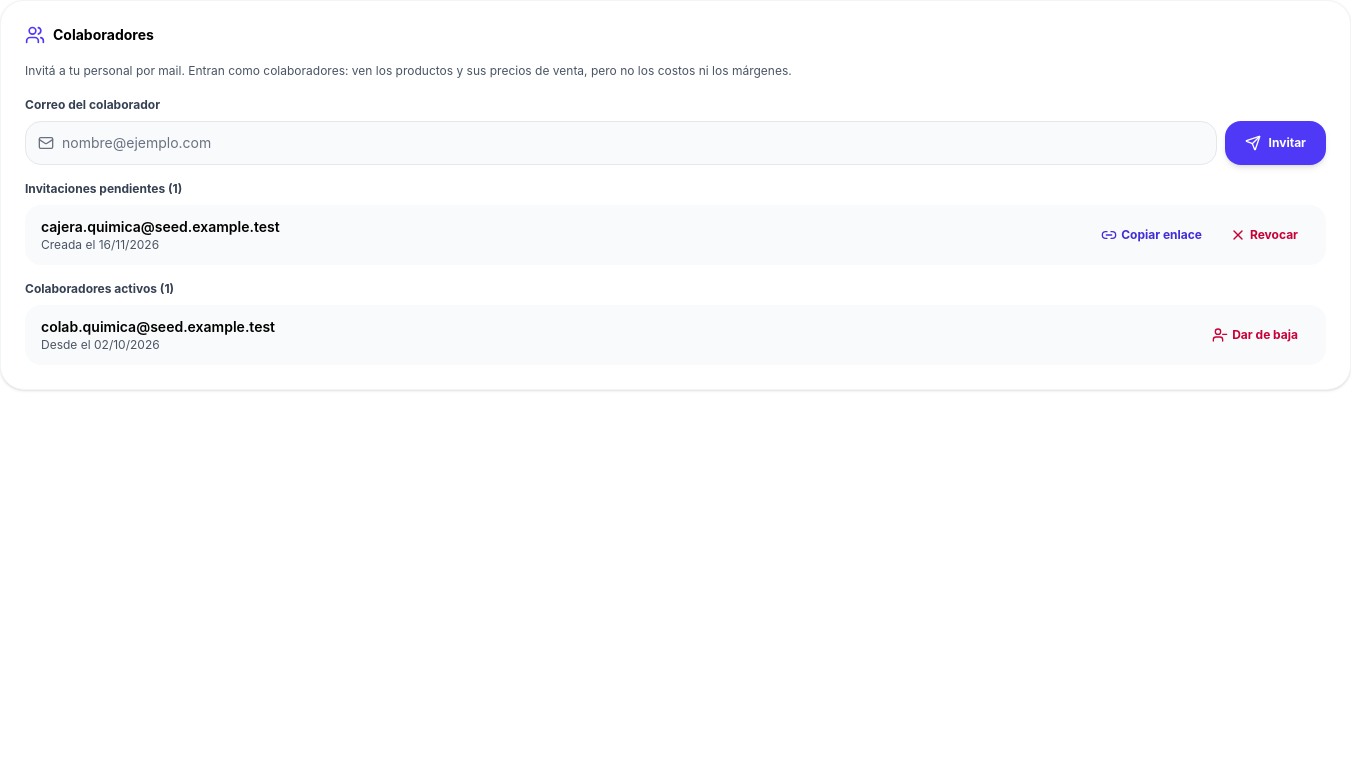
Test case: CollaboratorsSection (Perfil, solo ADMIN) › si la baja falla, el error se ve en el diálogo
Check: the text "colab.quimica@seed.example.test" is shown, box [41,318,275,334]
Click the button with aria-label "Dar de baja a colab.quimica@seed.example.test" at (1255, 334), box [1200,312,1310,356]
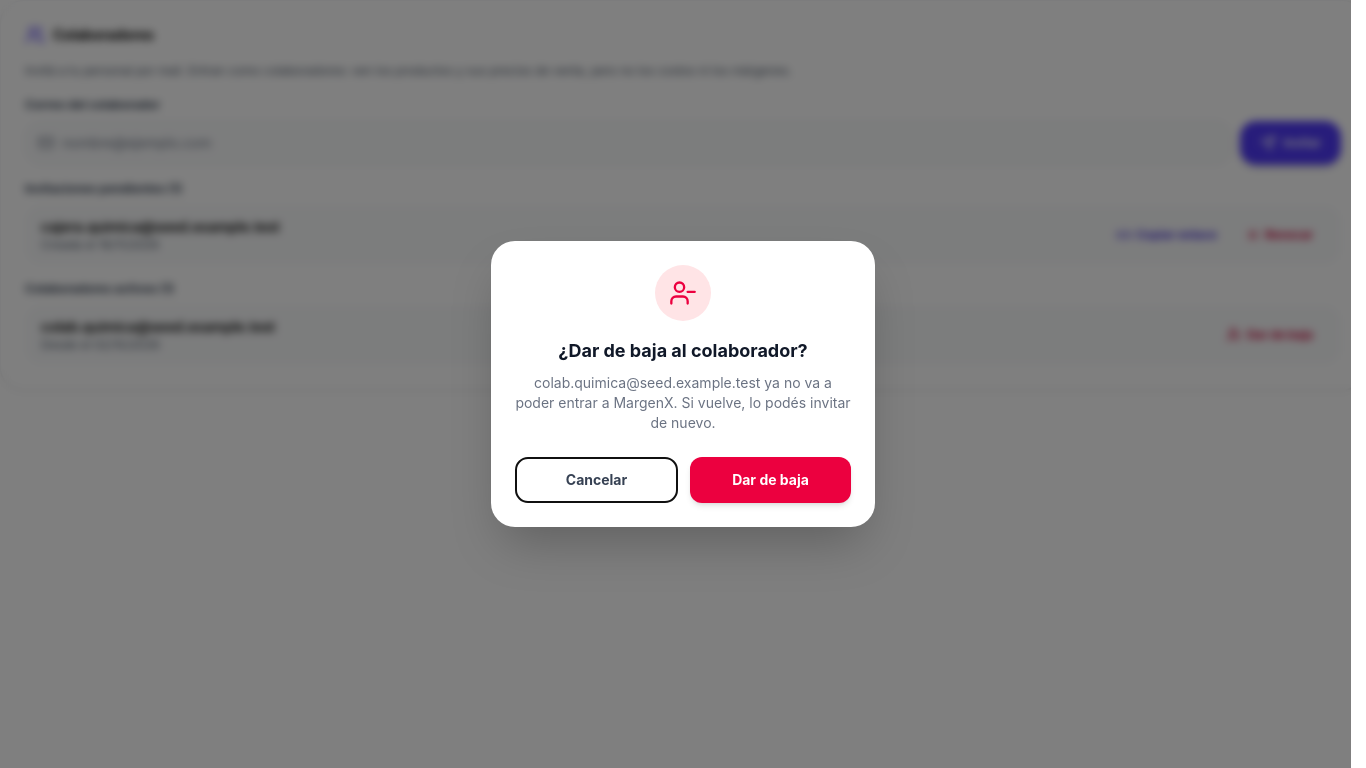
Click the button "Dar de baja" at (770, 480), box [690,457,851,503]
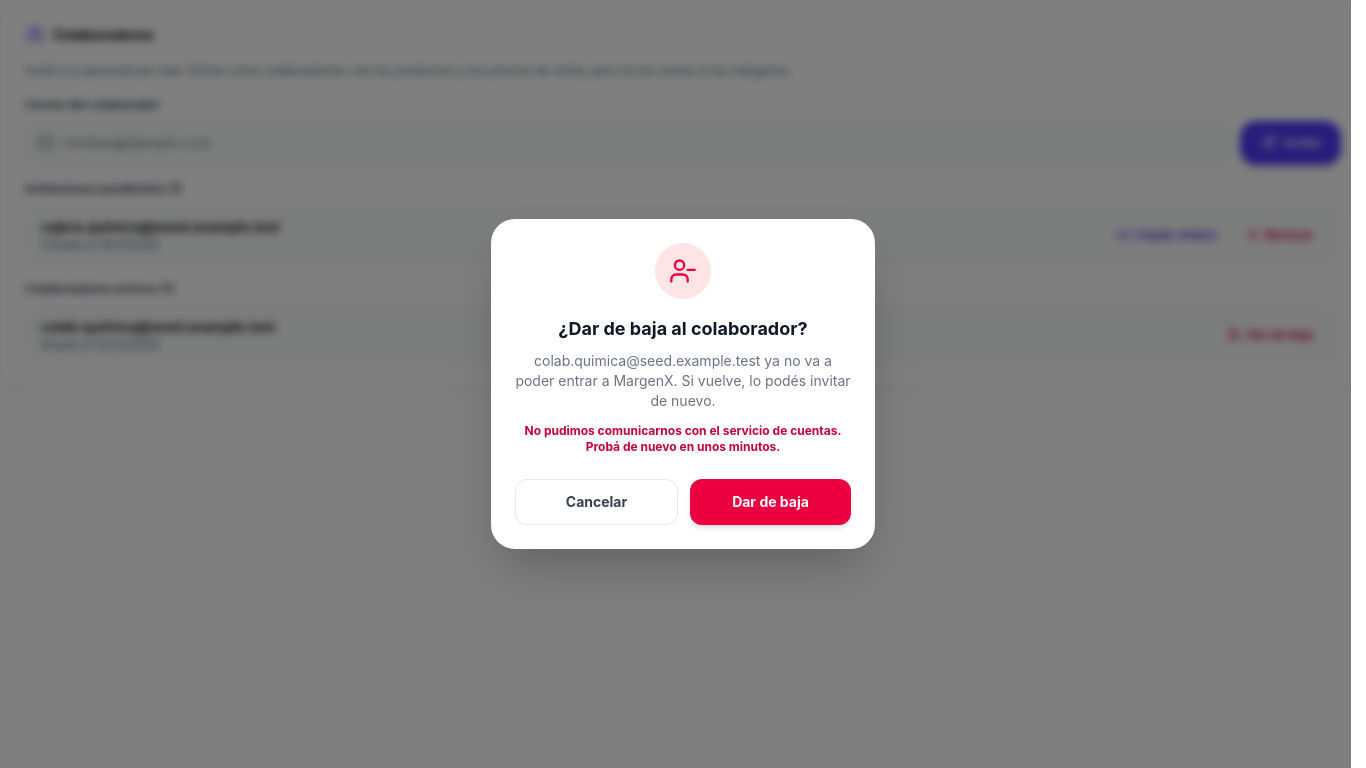
Check: the message shows "No pudimos comunicarnos con el servicio de cuentas", box [524,423,841,454]
